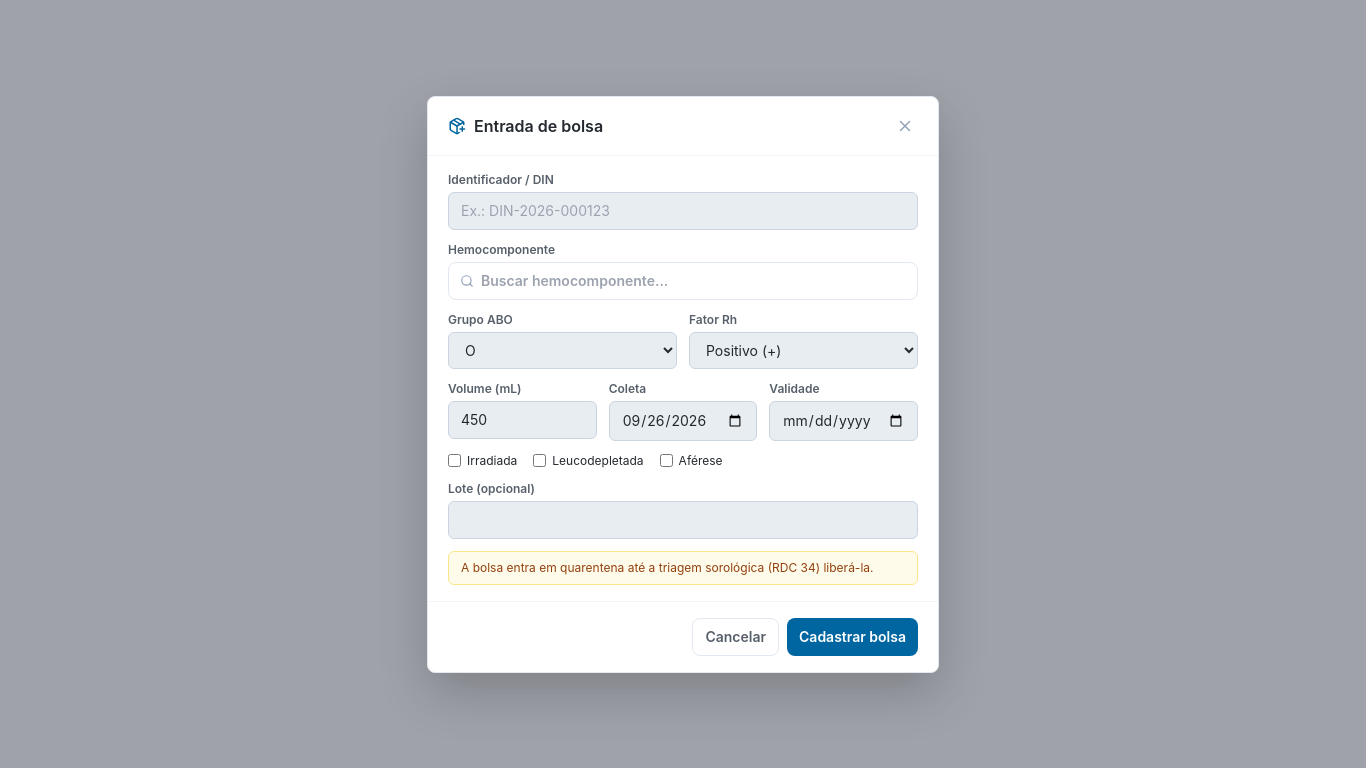
BloodBagEntryModal › surfaces a duplicate-DIN 400 error
In the field named "Identificador/DIN": coordinates (683, 210) [448,192,918,230], type "DUP"
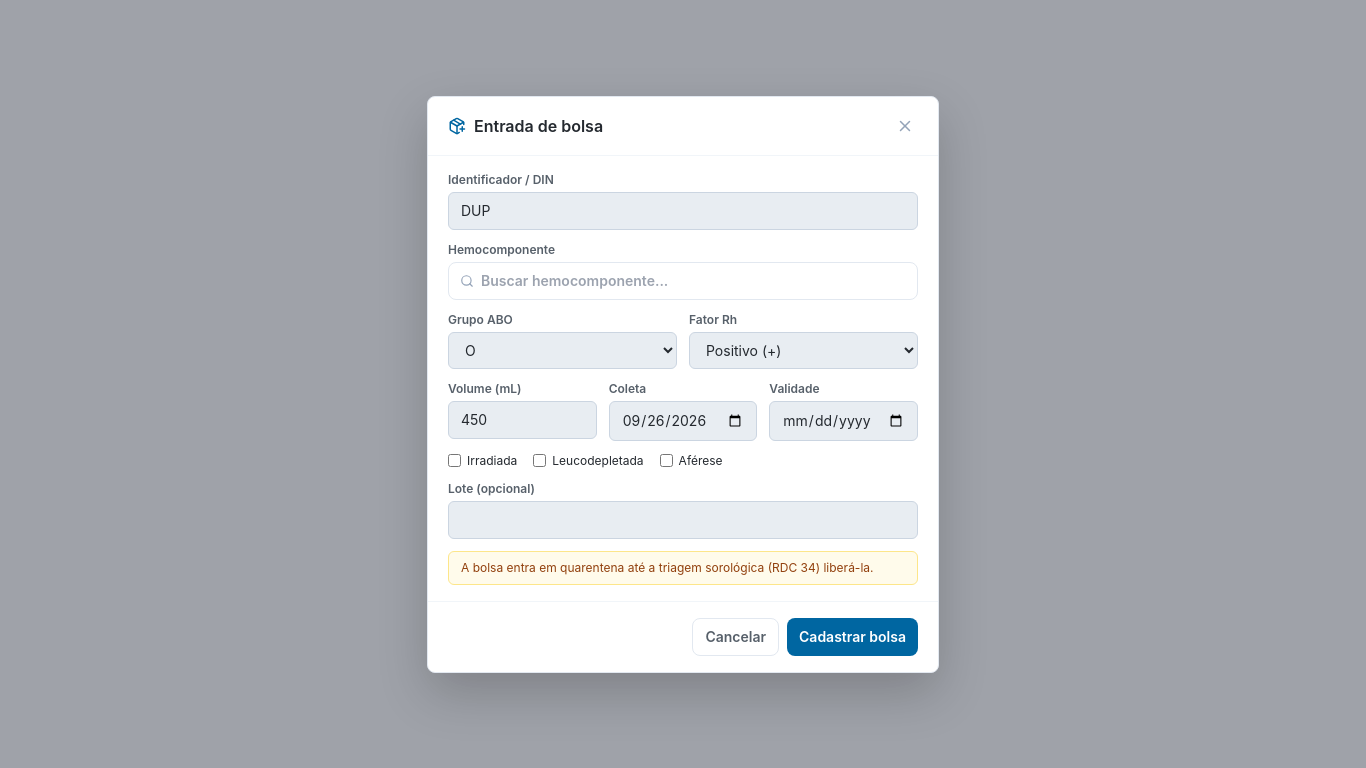
Focus the dropdown with placeholder "Buscar hemocomponente...": coordinates (683, 280) [448,262,918,300]
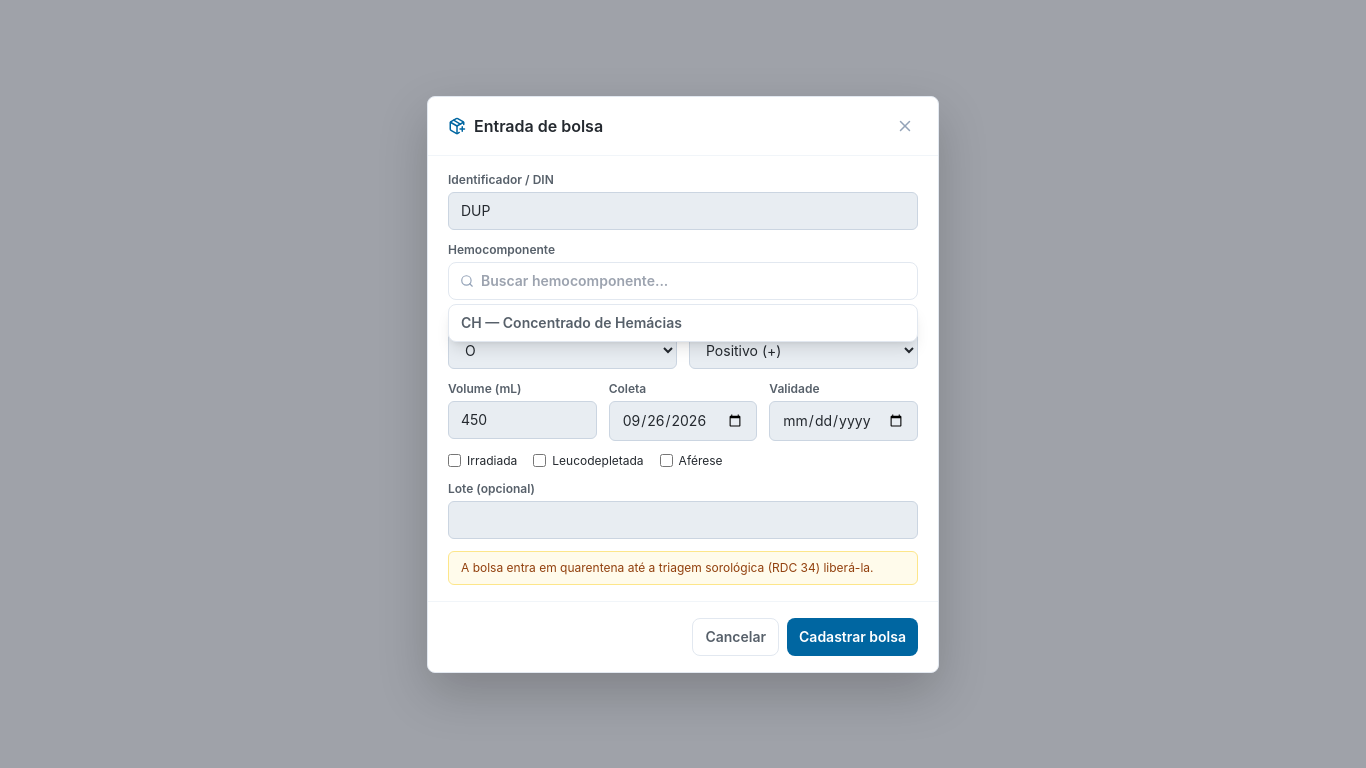
Check: the option "CH — Concentrado de Hemácias" is shown
Click the option "CH — Concentrado de Hemácias": coordinates (683, 322) [449,304,917,340]
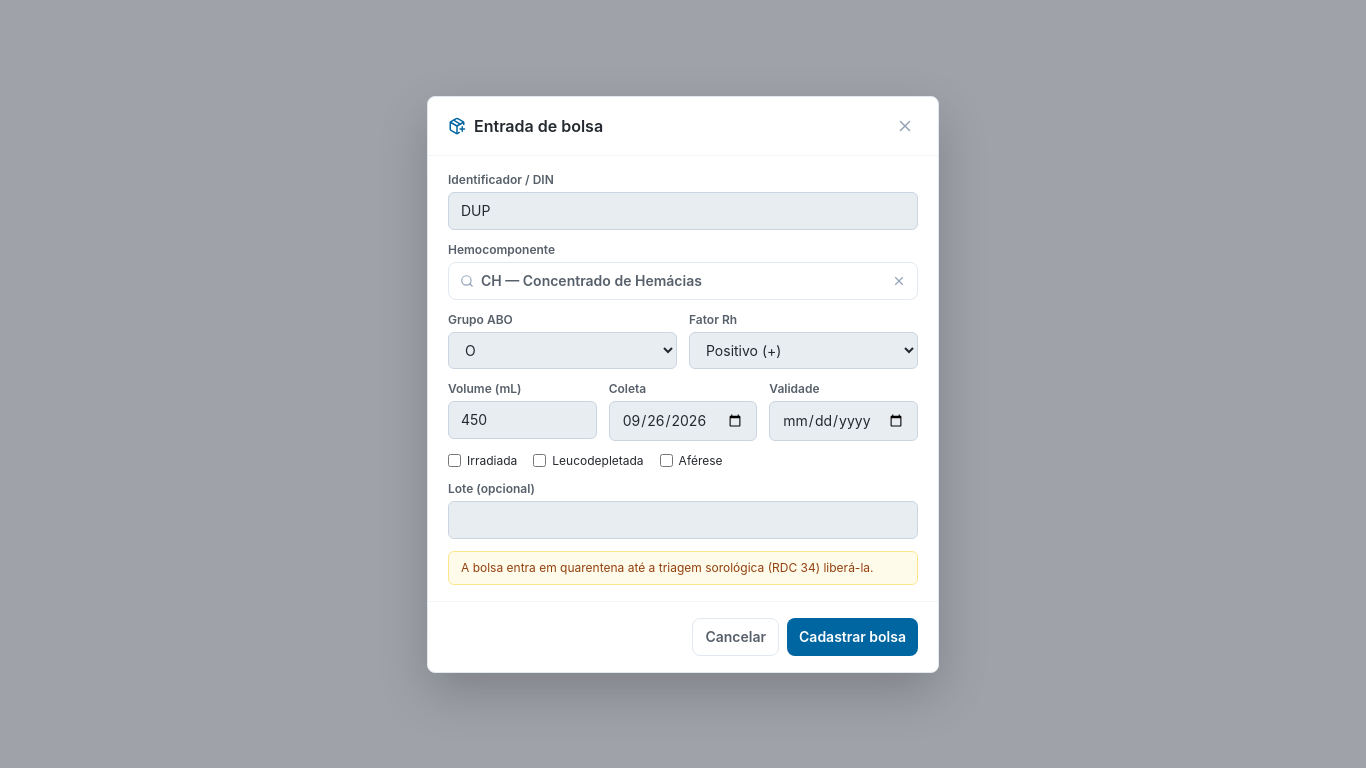
In the date field named "Data de validade": coordinates (844, 420) [769,400,918,440], type "2026-08-30"
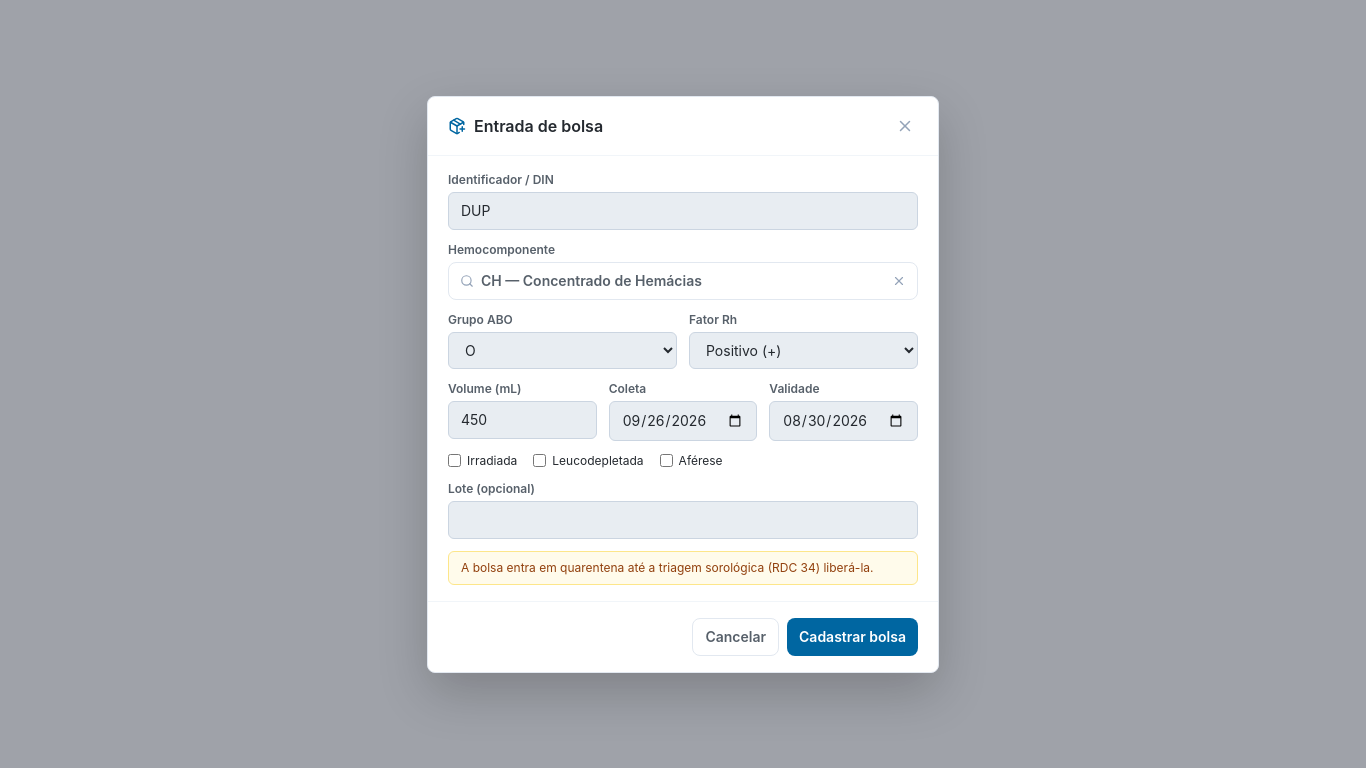
Click the button "Cadastrar bolsa": coordinates (852, 636) [787,618,918,656]
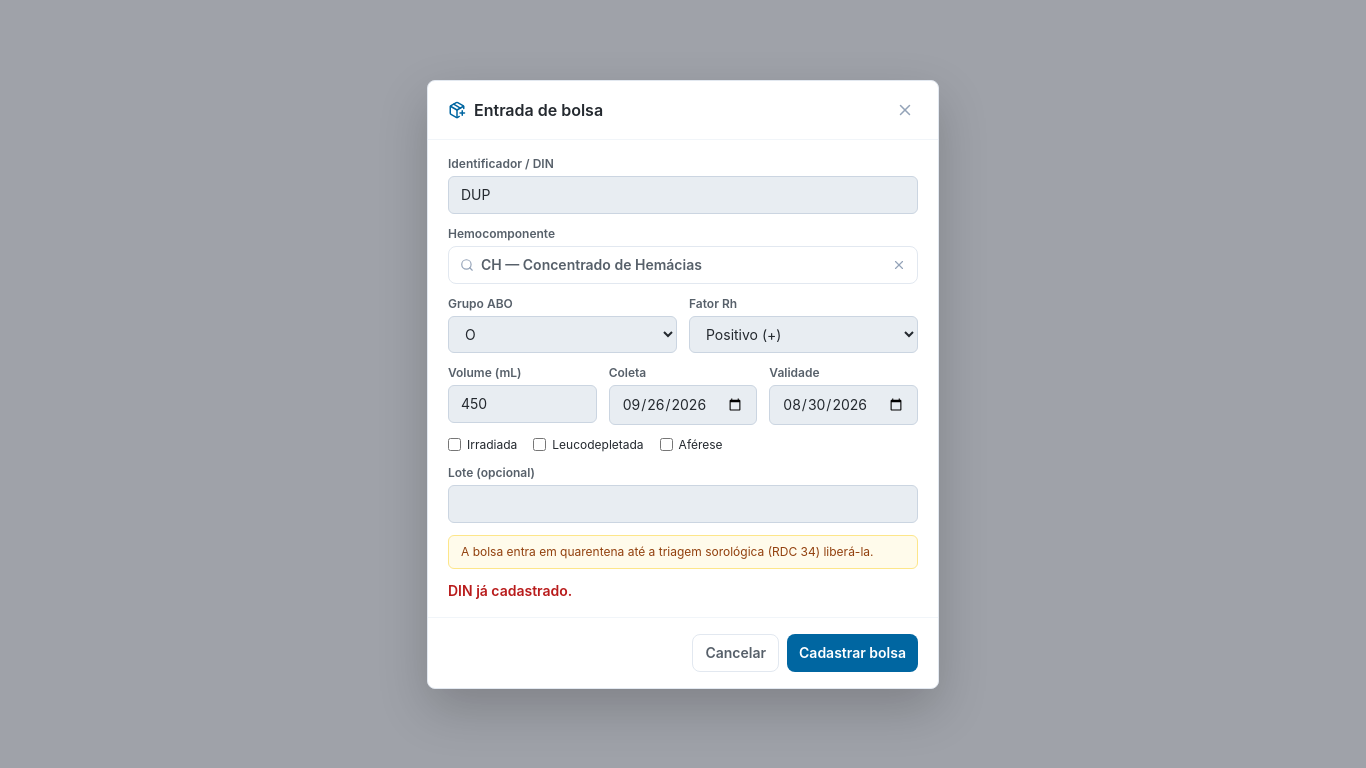
Check: the text "DIN já cadastrado." is shown, box [448,582,572,598]
